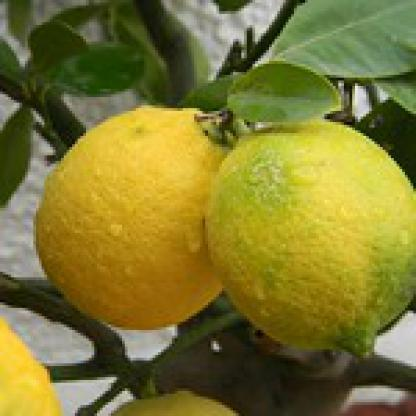lemon: (205, 116, 416, 363), (34, 104, 253, 331), (0, 315, 64, 416), (109, 391, 238, 416)
